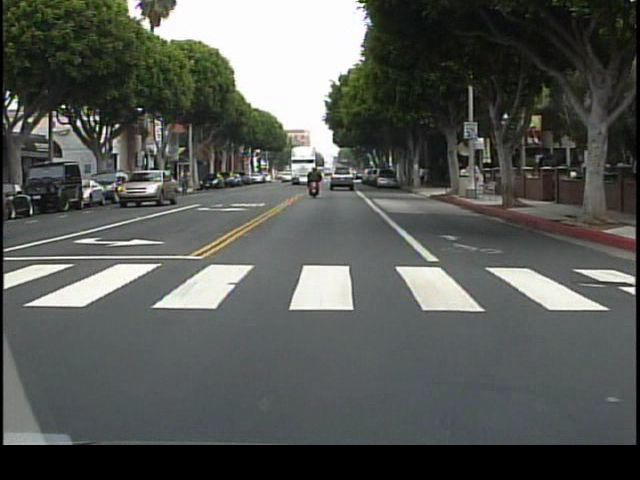person: (305, 162, 323, 202), (424, 164, 433, 191), (419, 164, 425, 186)
